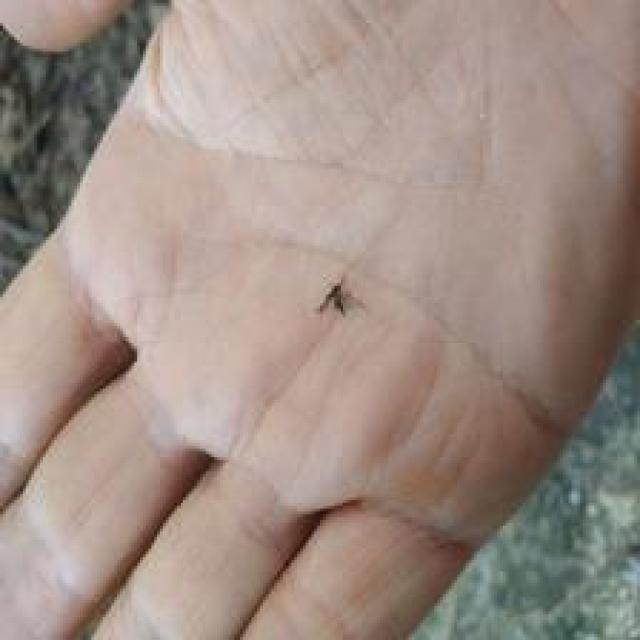Aedes albopictus: (313, 274, 364, 320)
